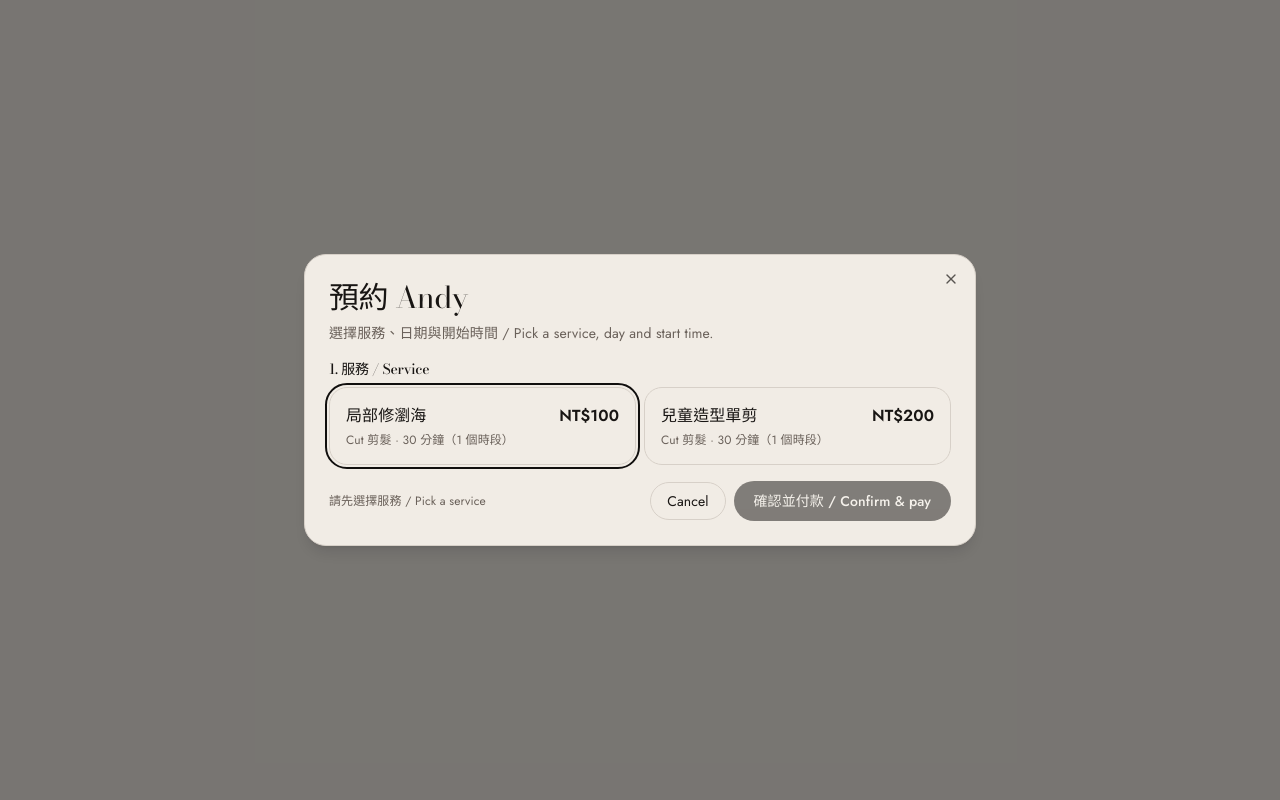
Test: BookingDialog › keeps the time chip the dialog was opened from selected once a service is picked
Click the radio button labelled "局部修瀏海 NT$100 Cut 剪髮 · 30 分鐘（1 個時段）". click: [386, 416]
box: [329,387,636,465]
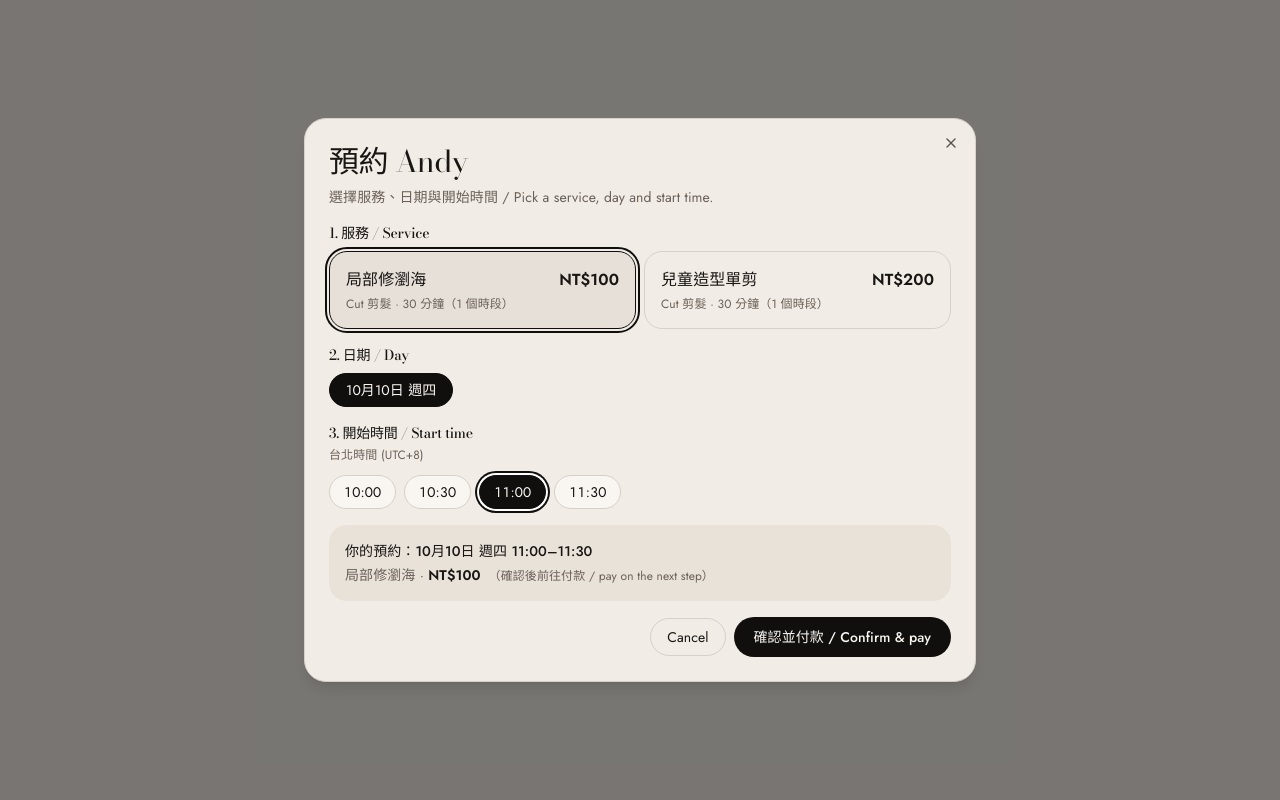
Result: the text "11:00–11:30" is shown at [345,541,592,561]
Result: the button "確認並付款 / Confirm & pay" is enabled at [734,617,951,657]
